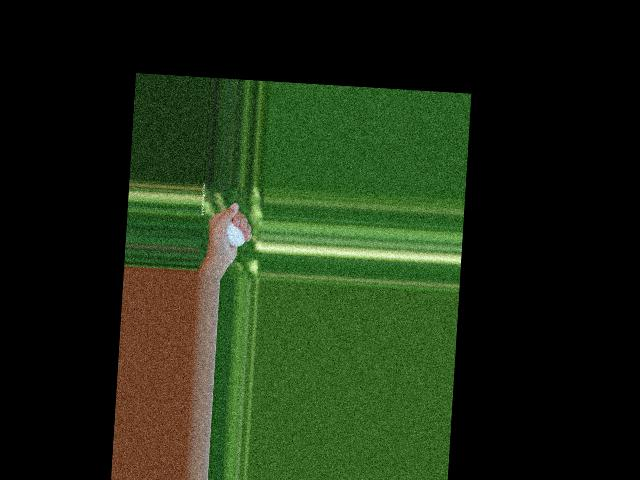egg: (225, 219, 246, 246)
